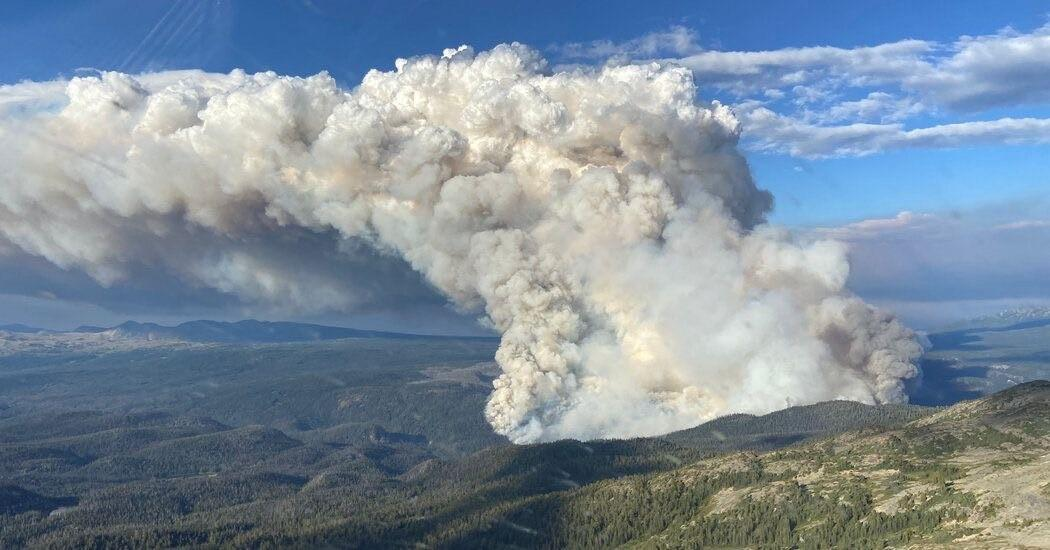smoke: (0, 61, 953, 489), (447, 96, 926, 439)
